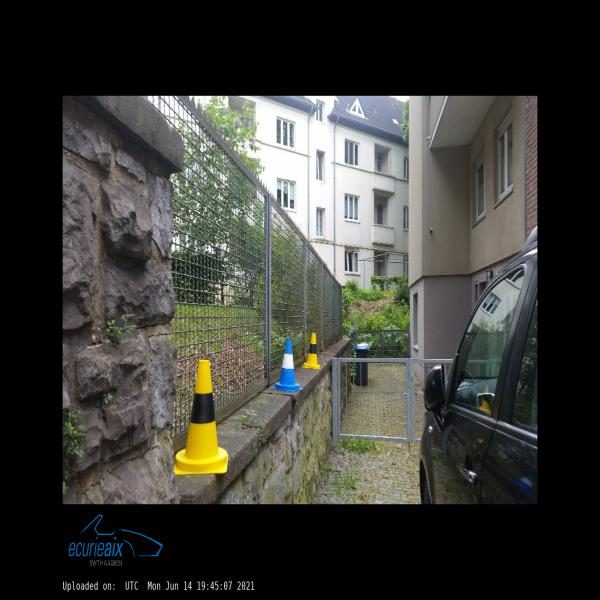blue_cone: (272, 338, 303, 391)
yellow_cone: (174, 360, 228, 474), (303, 333, 321, 369)
